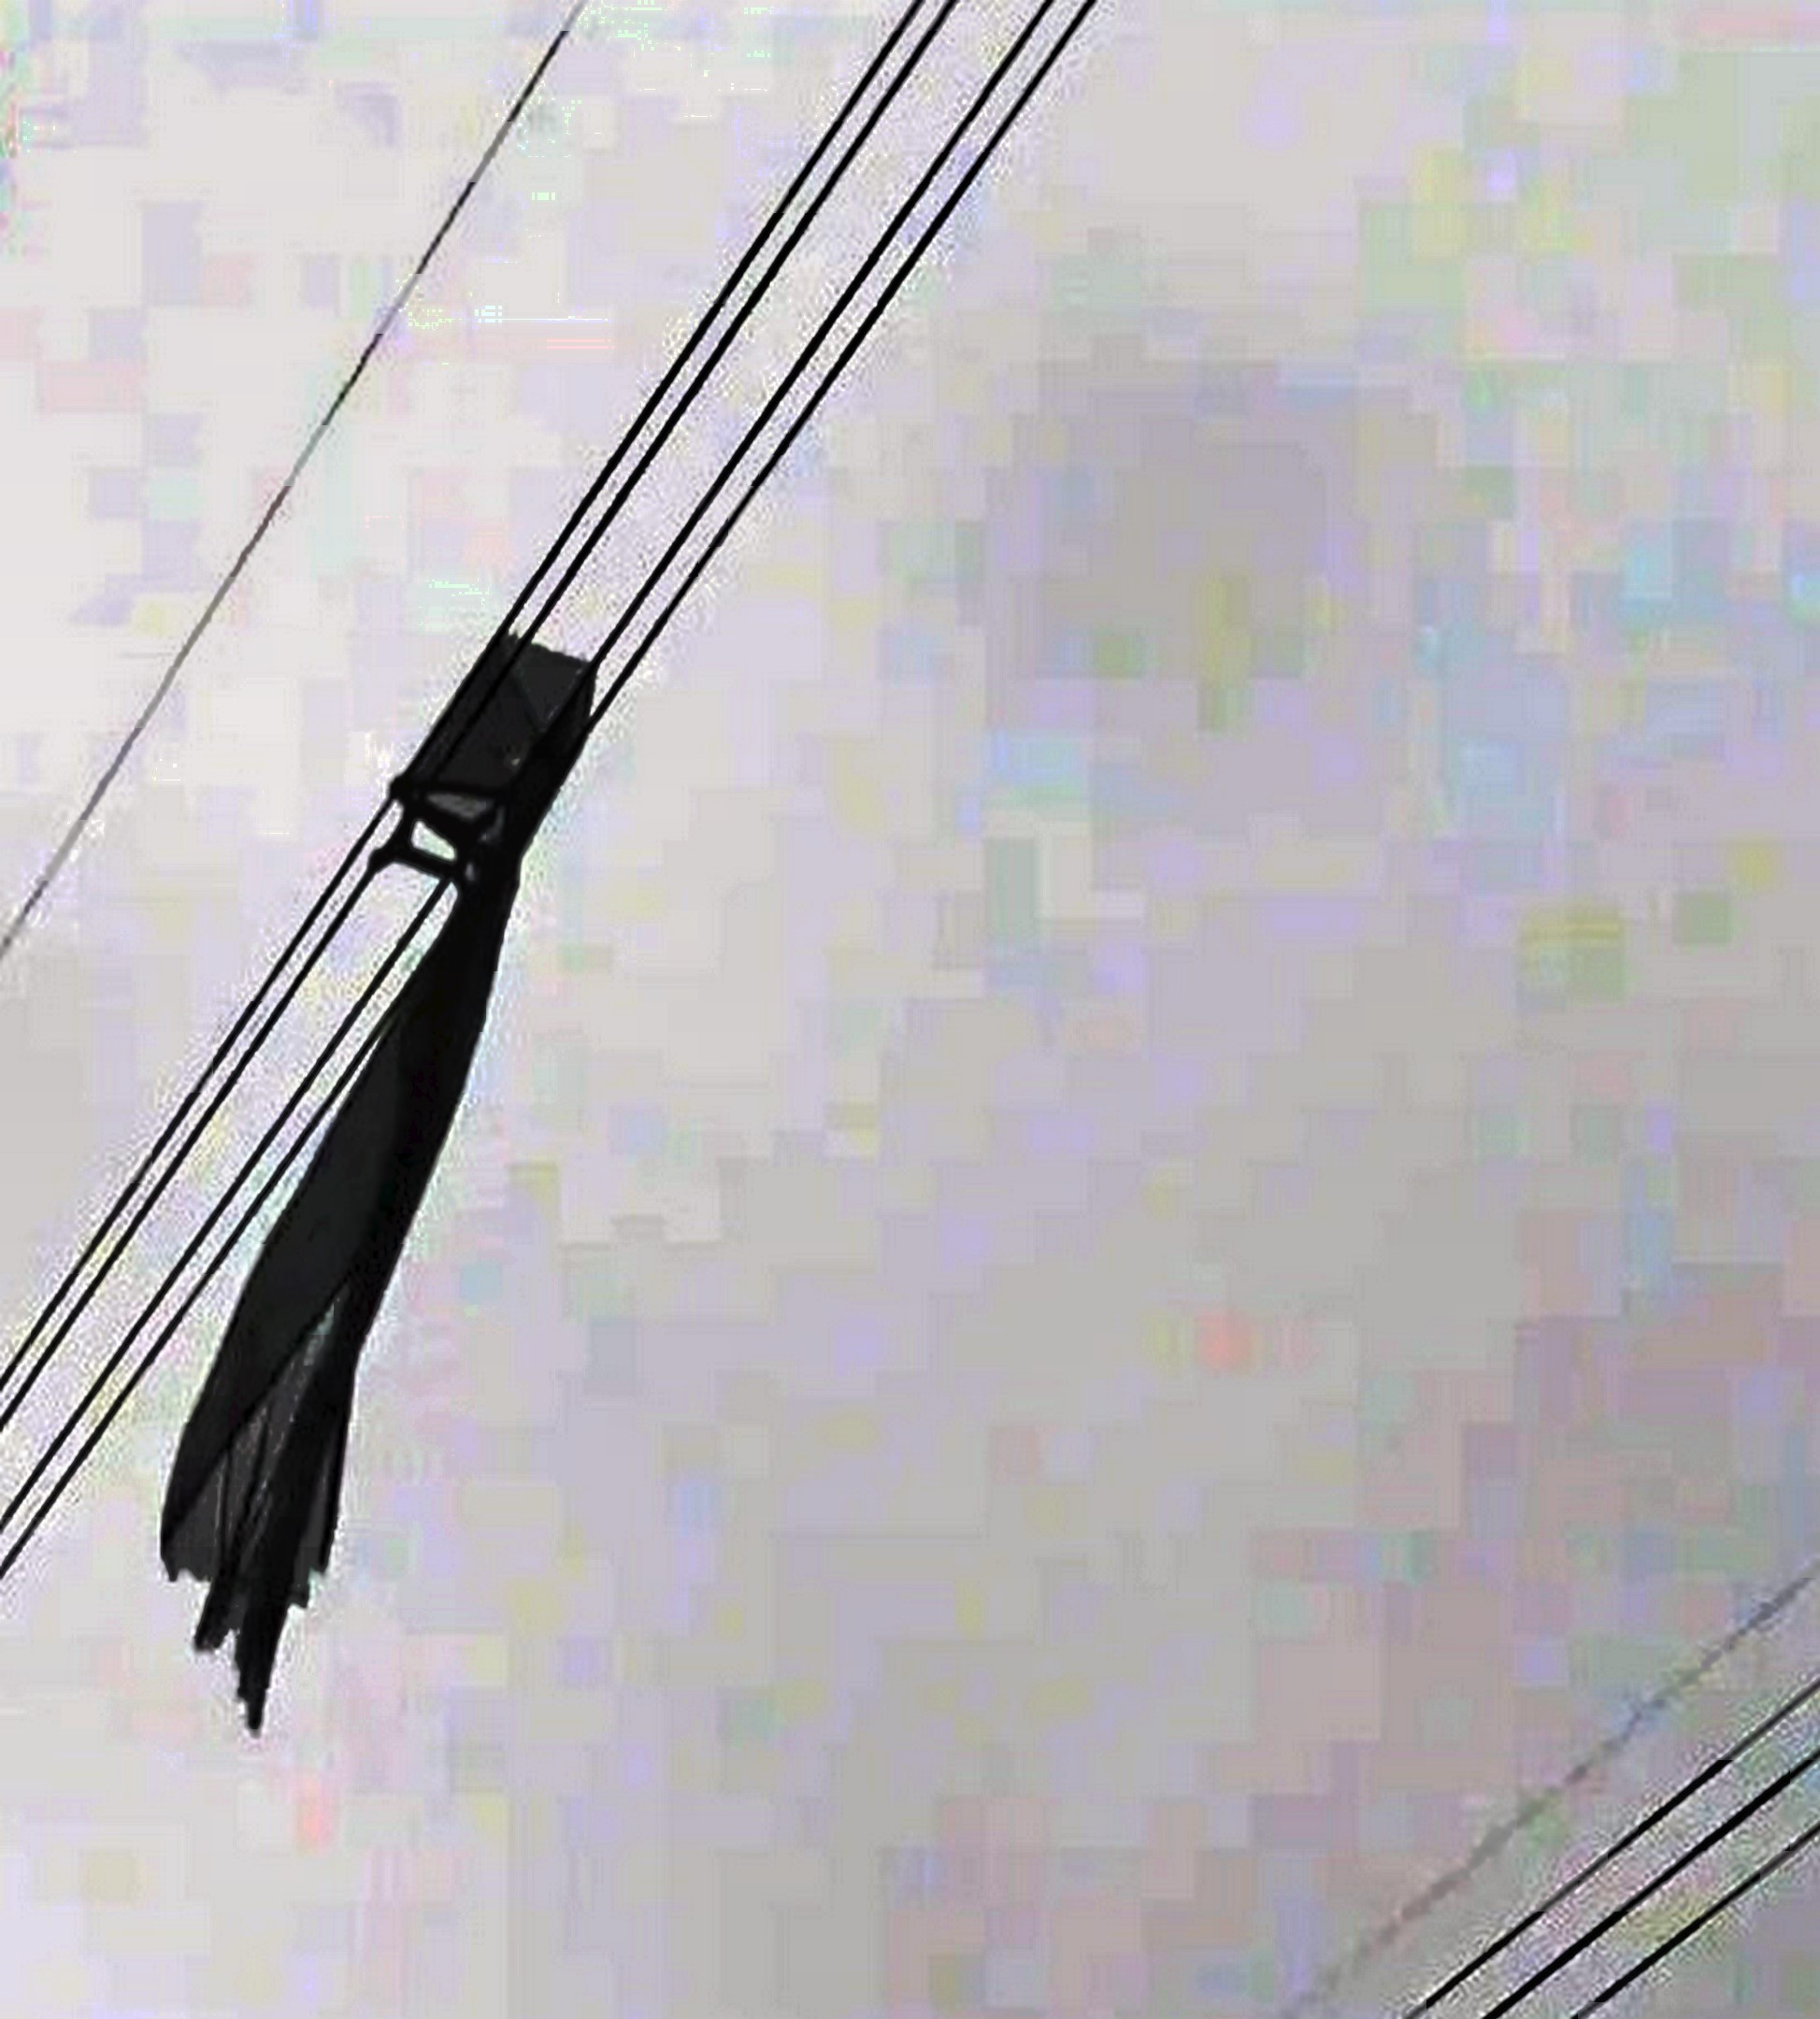wire foreign body: (160, 604, 625, 1696)
